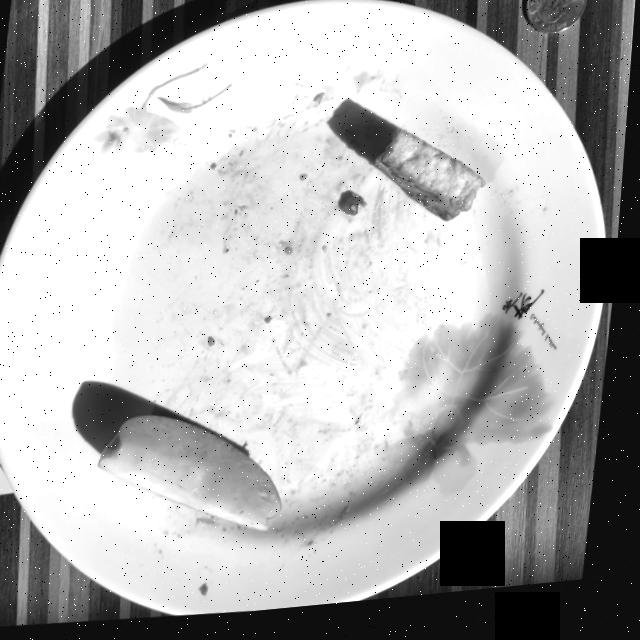apple -sliced-: (105, 418, 290, 535)
coin: (523, 0, 588, 43)
creamy tofu: (378, 136, 489, 228)
